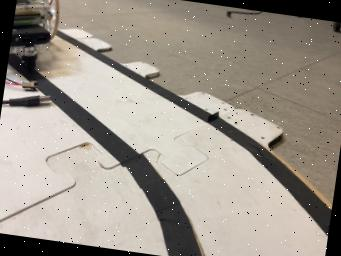street: (0, 39, 327, 256), (0, 39, 327, 256), (0, 39, 327, 256), (0, 39, 327, 256), (0, 39, 327, 256), (0, 39, 327, 256), (56, 32, 331, 236), (56, 32, 331, 236), (56, 32, 331, 236), (56, 32, 331, 236), (56, 32, 331, 236), (56, 32, 331, 236)
